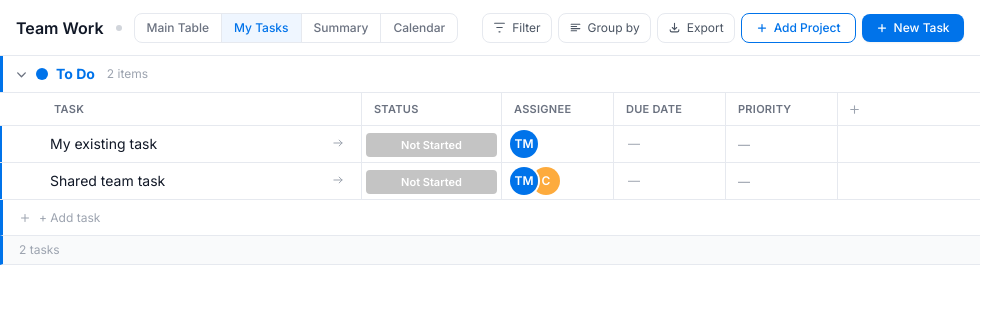
Test: My Tasks creation through the board UI and store › creates from New Task, assigns atomically, focuses the row, and keeps it visible after naming
Expected: the button "My existing task" is shown, [50,134,323,154]
Expected: the button "Shared team task" is shown, [50,171,323,191]
Click the button "New Task".
click(913, 28)  # box [862,14,964,42]
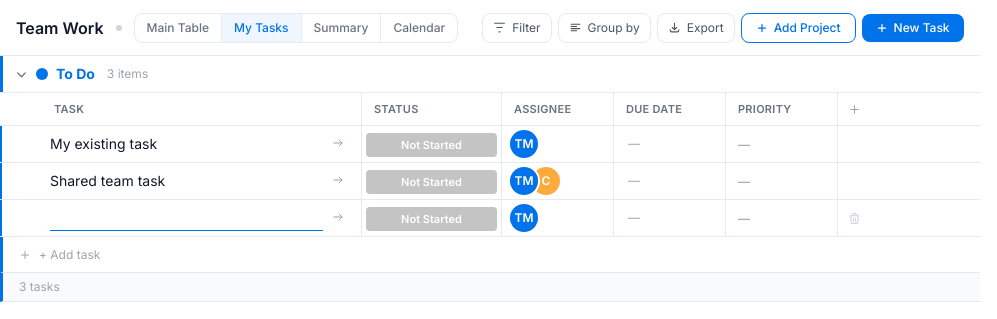
Expected: the field is empty
Type "Prepare shipping plan" into the field.
click(186, 218); type("Prepare shipping plan")  # box [50,206,323,230]
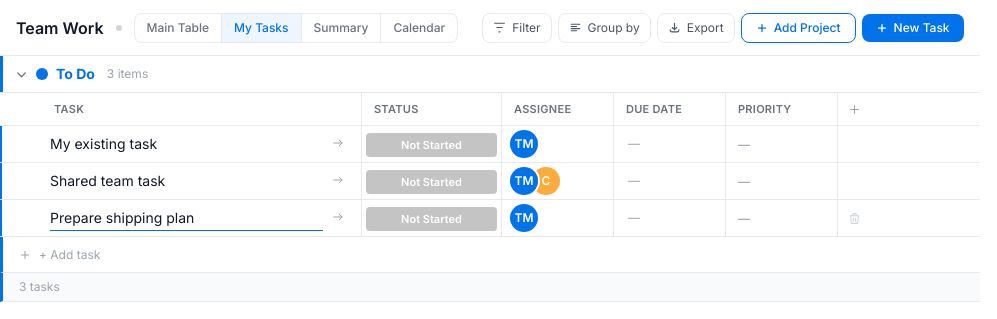
Press Enter in the field, box [50,206,323,230]
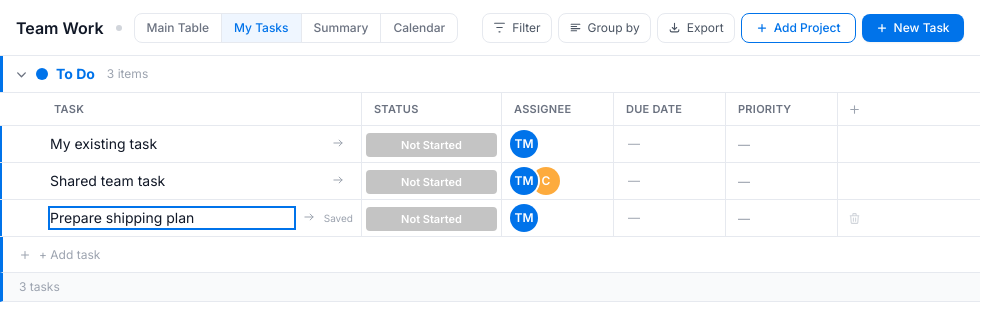
Expected: the button "Prepare shipping plan" is shown, [50,208,294,228]
